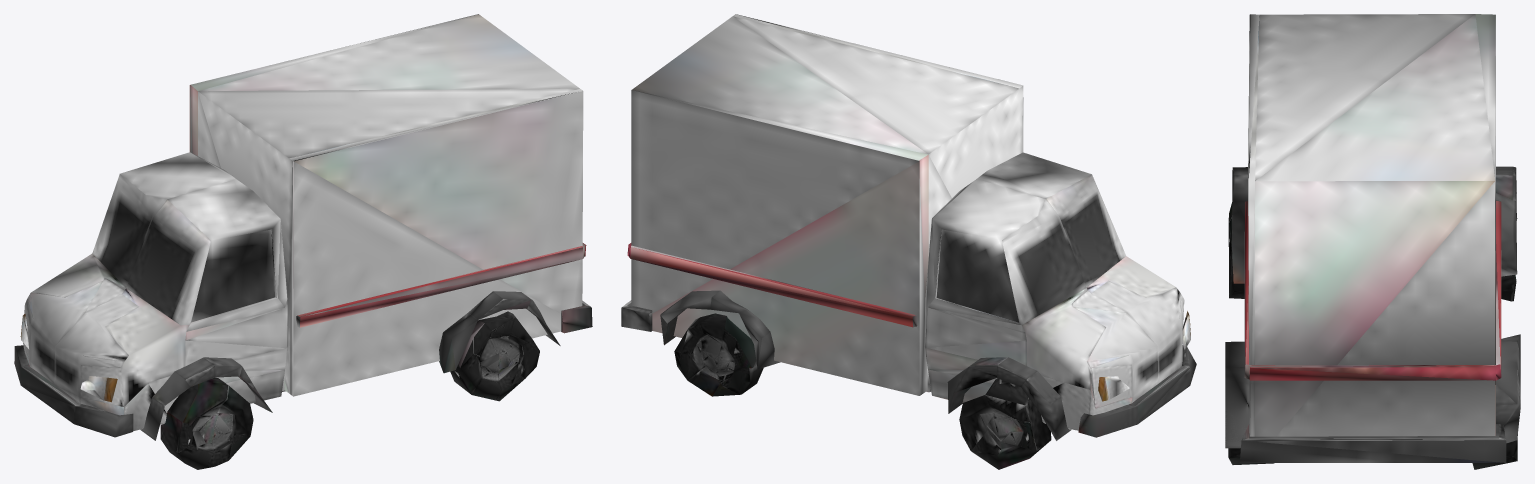
Rendered from 48-delivery-truck.glb.
3 views of the same model, side by side, from view 1: azimuth 30°, elevation 25°; view 2: azimuth 150°, elevation 25°; view 3: azimuth 270°, elevation 25° (orthographic). The views are drawn at different scales.
Parts seen in each view (by area): view 1: geometry_0; view 2: geometry_0; view 3: geometry_0.
Boxes of the visible parts, bbox=[...] form: geometry_0: bbox=[14, 14, 592, 469]; geometry_0: bbox=[621, 14, 1196, 469]; geometry_0: bbox=[1225, 14, 1520, 469].
Bounding box in the file's own units: 0.9536 × 0.5298 × 0.4213.
1 material, 1 textured.
